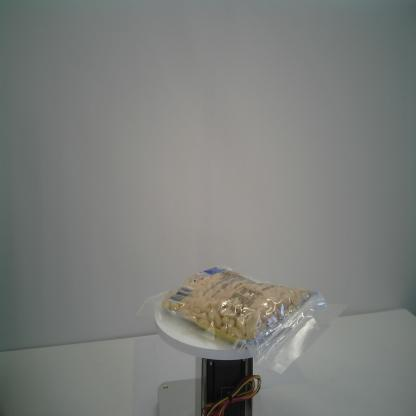Dried Fruit: (141, 262, 350, 376)
